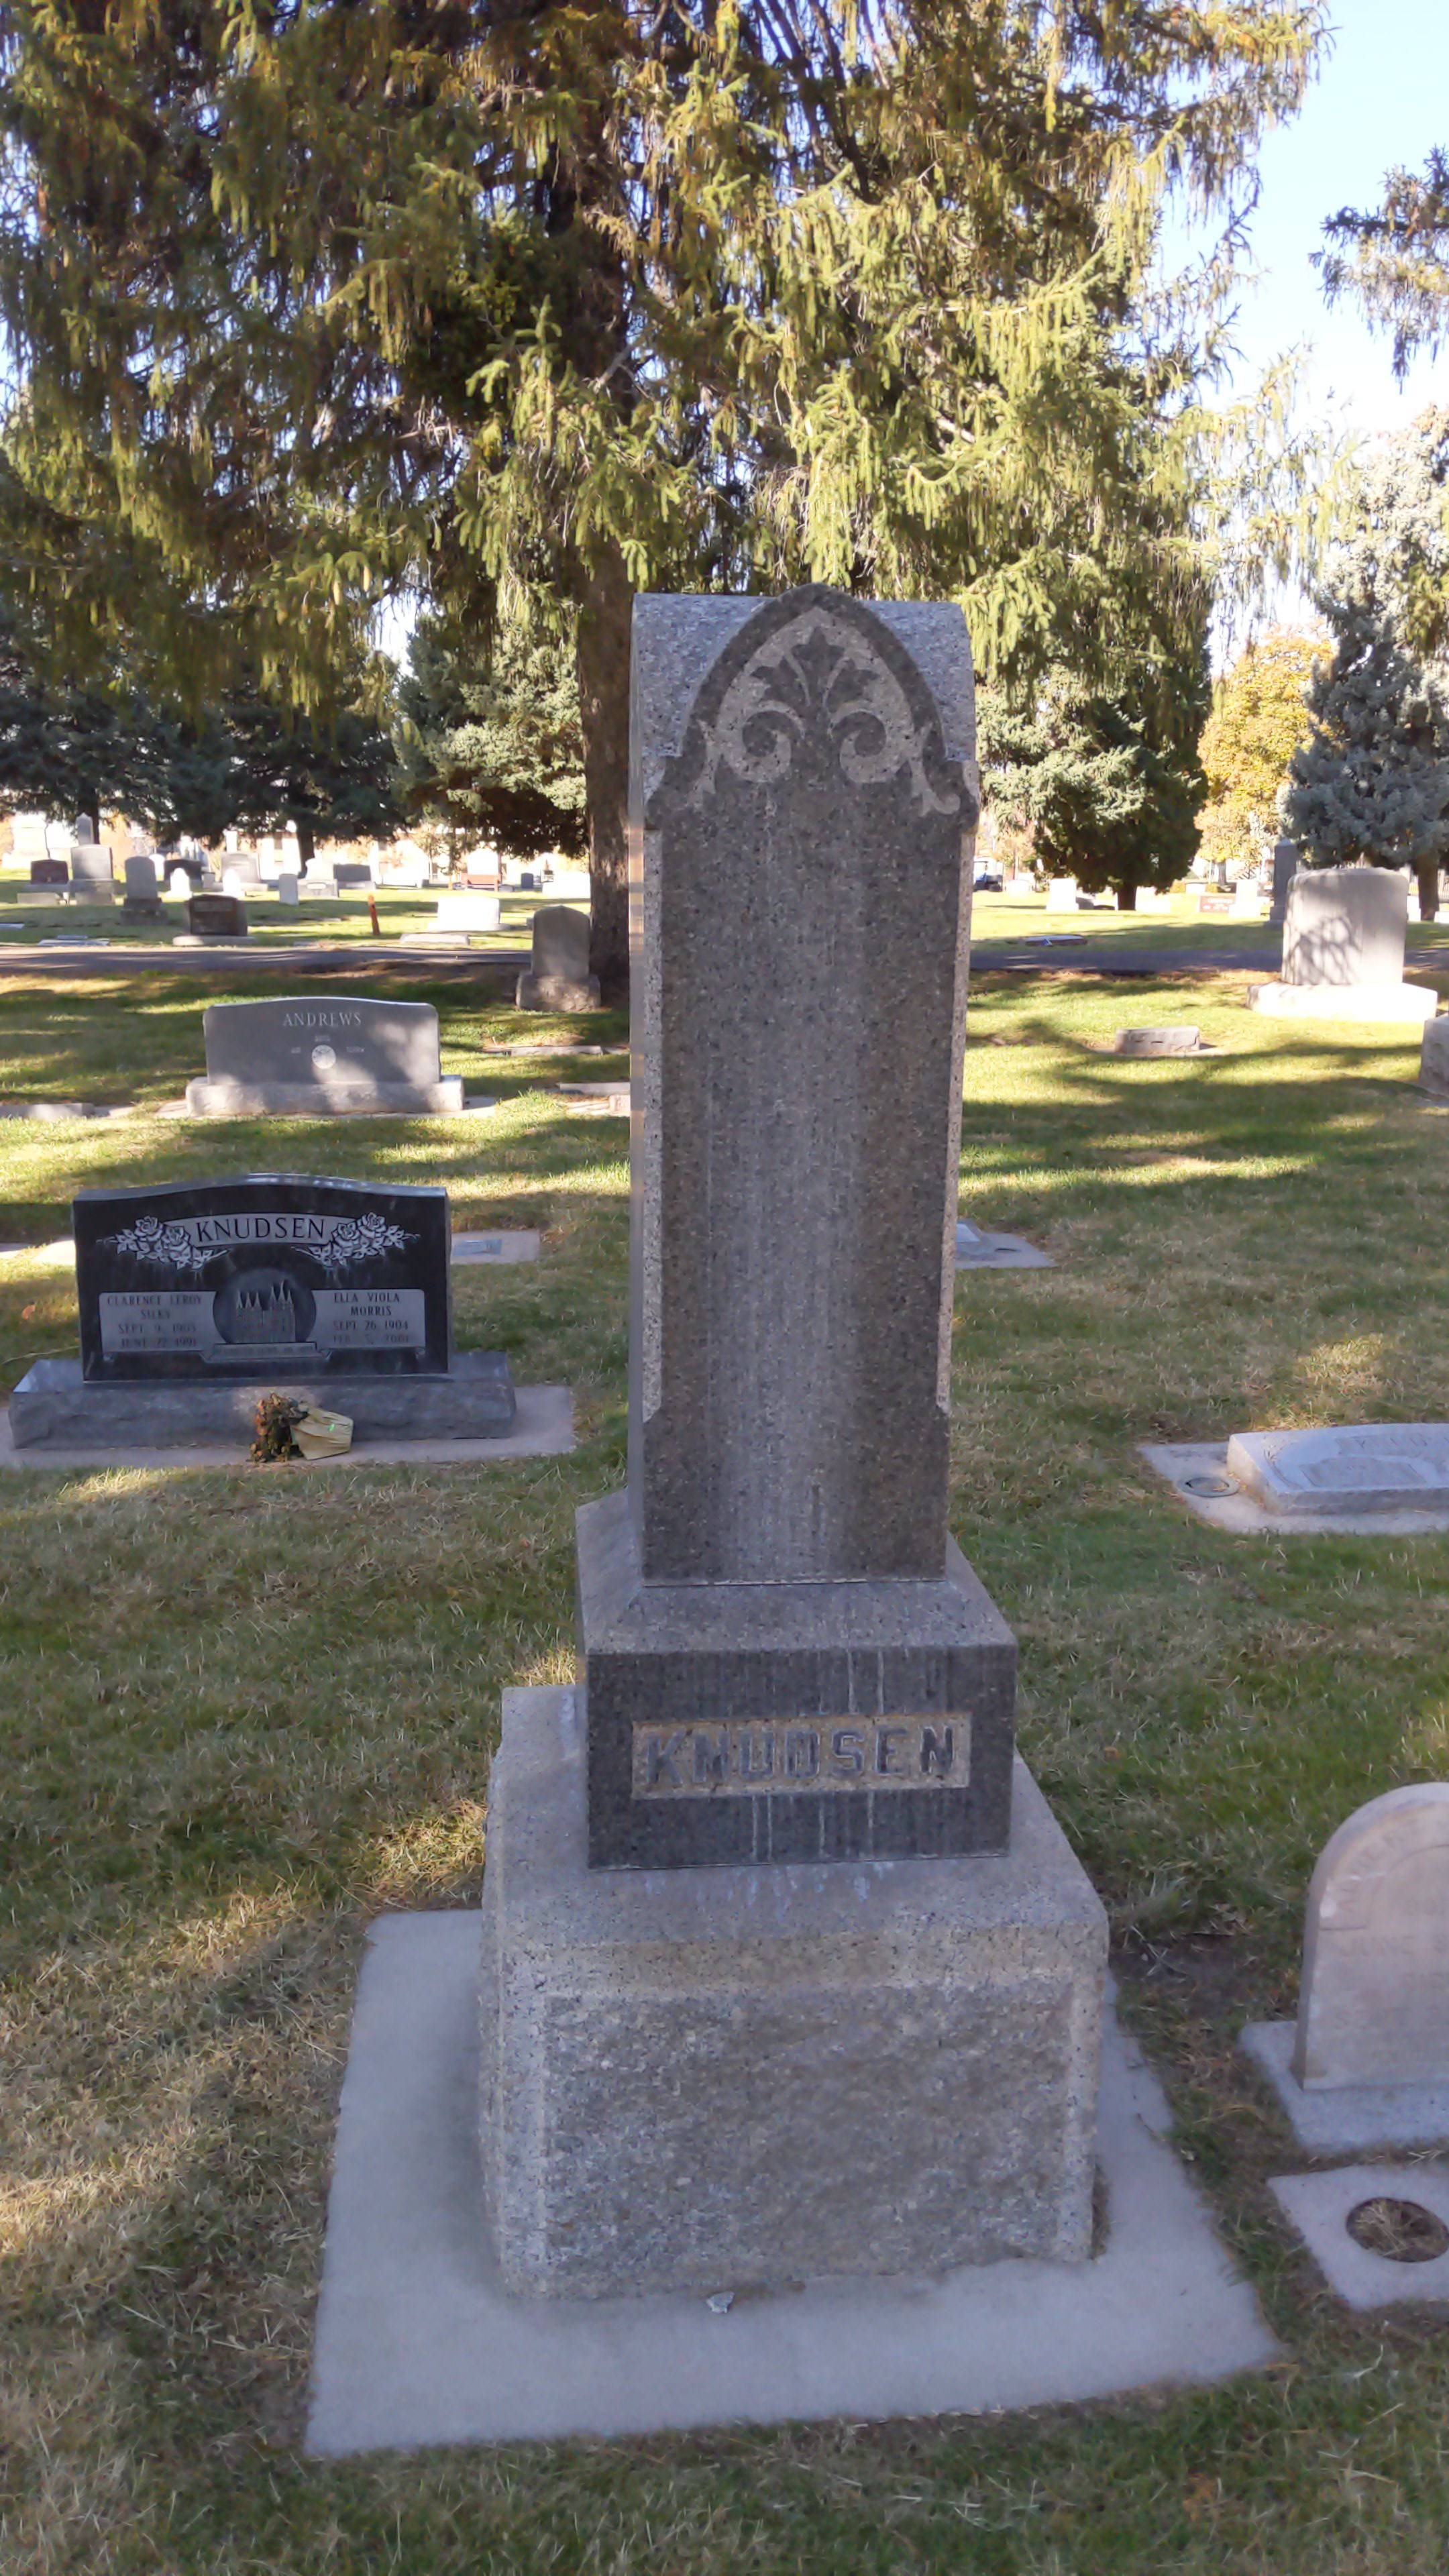obelisk: (573, 582, 1023, 1858)
